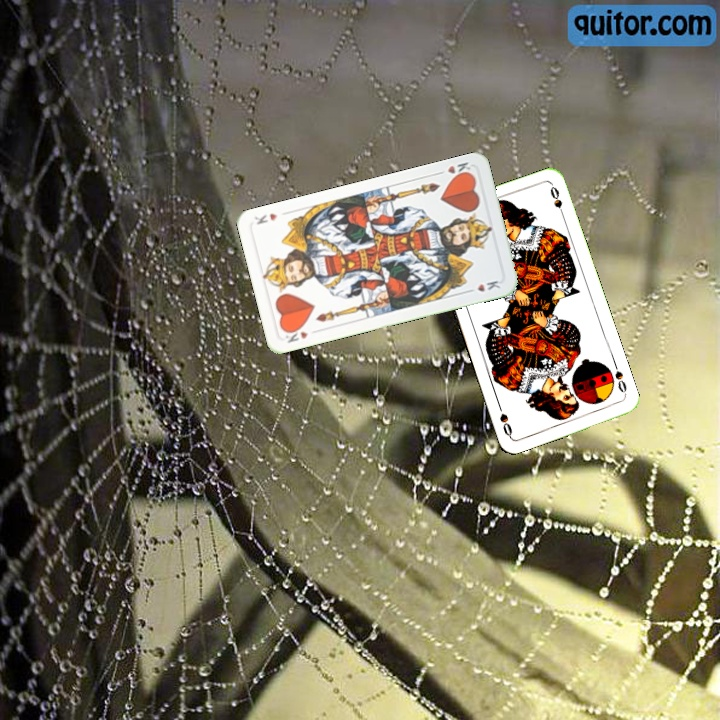HK: (433, 158, 474, 181), (279, 323, 311, 346)
SO: (611, 367, 629, 399)
